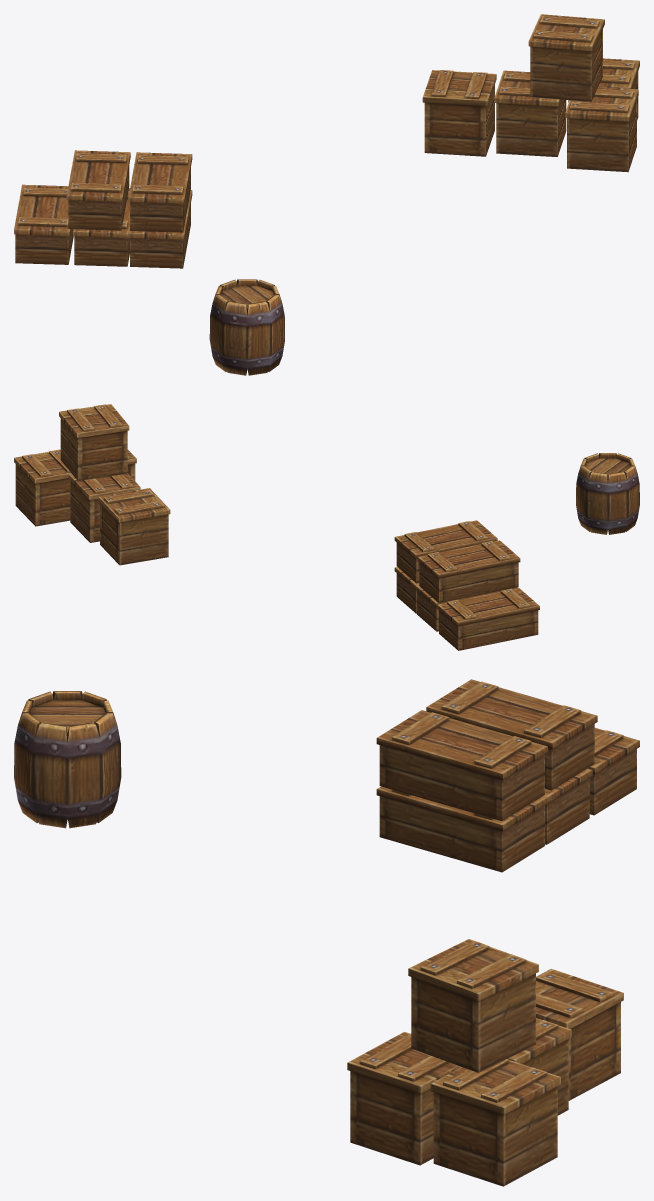
Rendered from Area_13_4.fbx.
3 views of the same model, one above another, from view 1: azimuth 30°, elevation 25°; view 2: azimuth 150°, elevation 25°; view 3: azimuth 270°, elevation 25° (orthographic). The views are drawn at different scales.
Visible parts, largest first — view 1: Area_13_4; view 2: Area_13_4; view 3: Area_13_4.
Part boxes in pixels (x1,y1,x2,y2): Area_13_4: (14,14,639,375); Area_13_4: (14,404,639,650); Area_13_4: (14,679,639,1186).
Size of the model in its own units: 1166 by 209 by 713.
